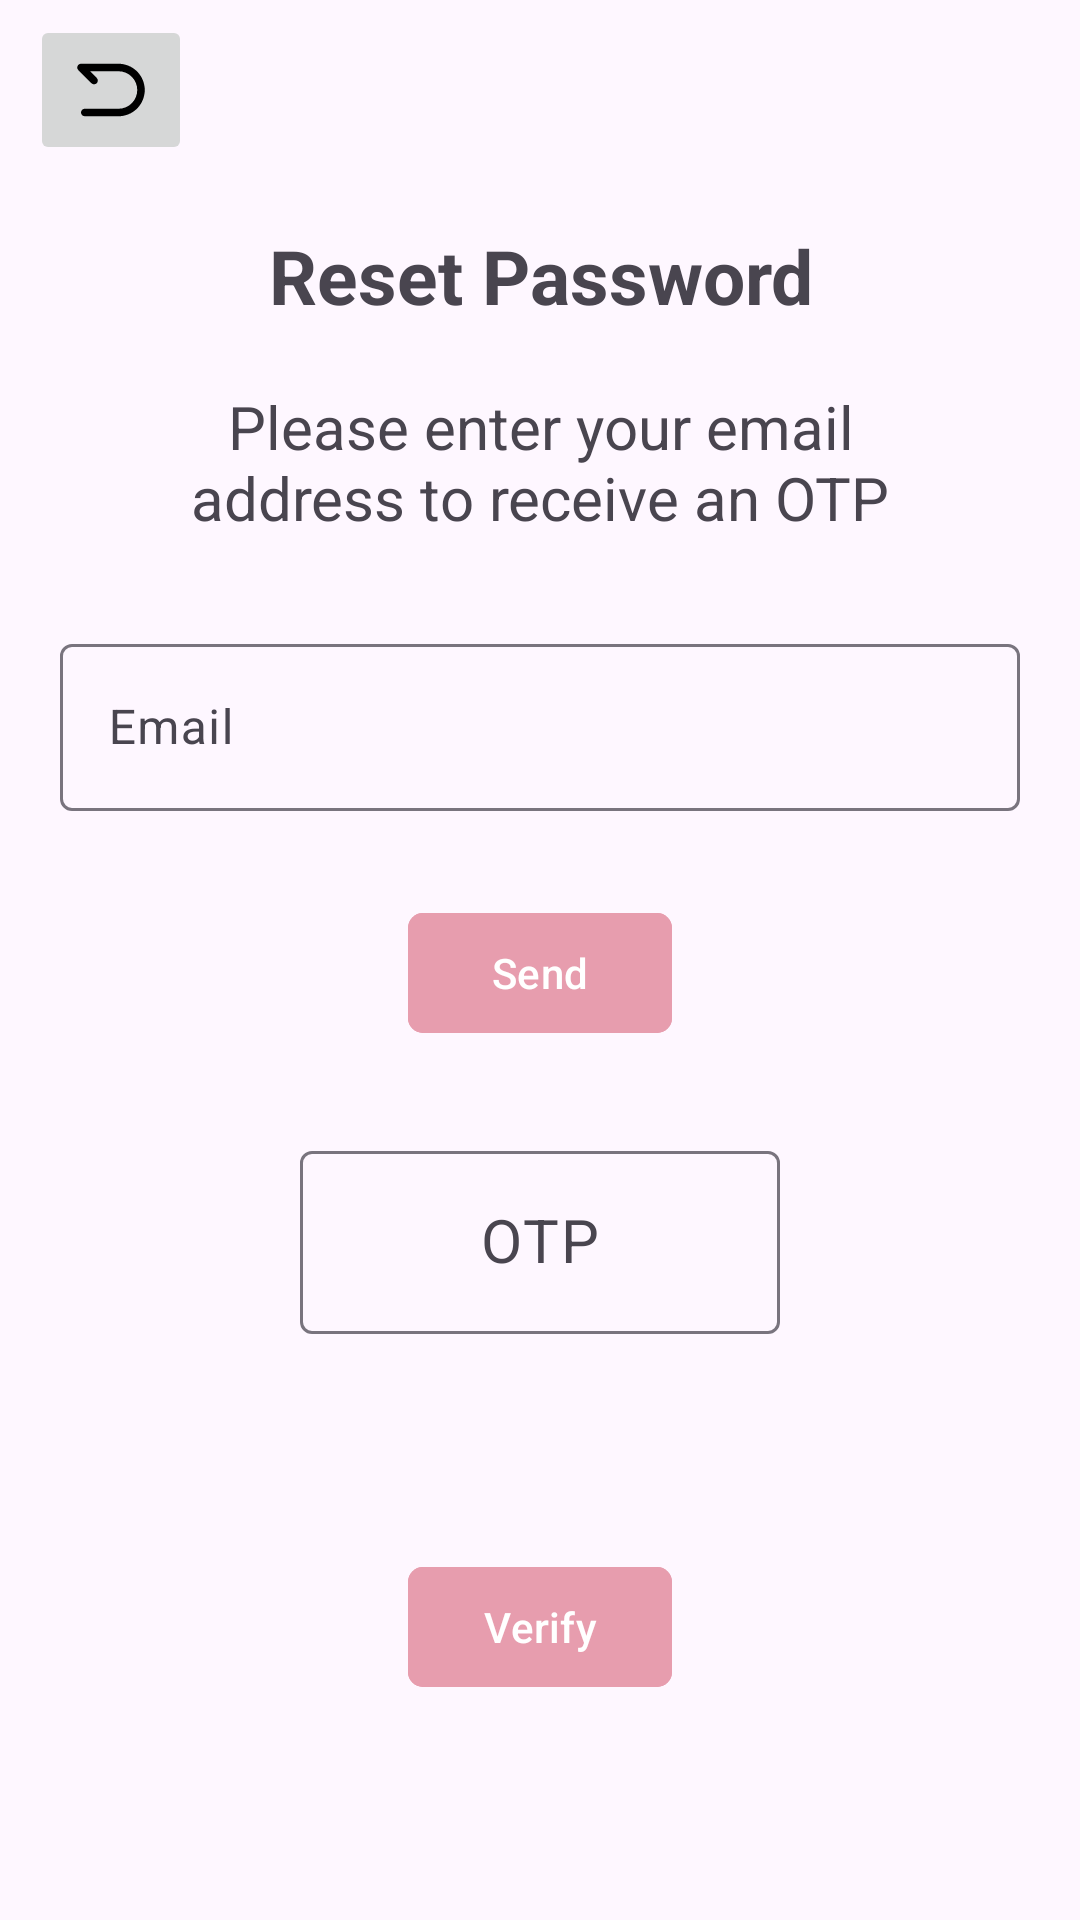

Where to tap for icons on this 1080px×1920px app screen, as [x,y]:
back: [111,90]
